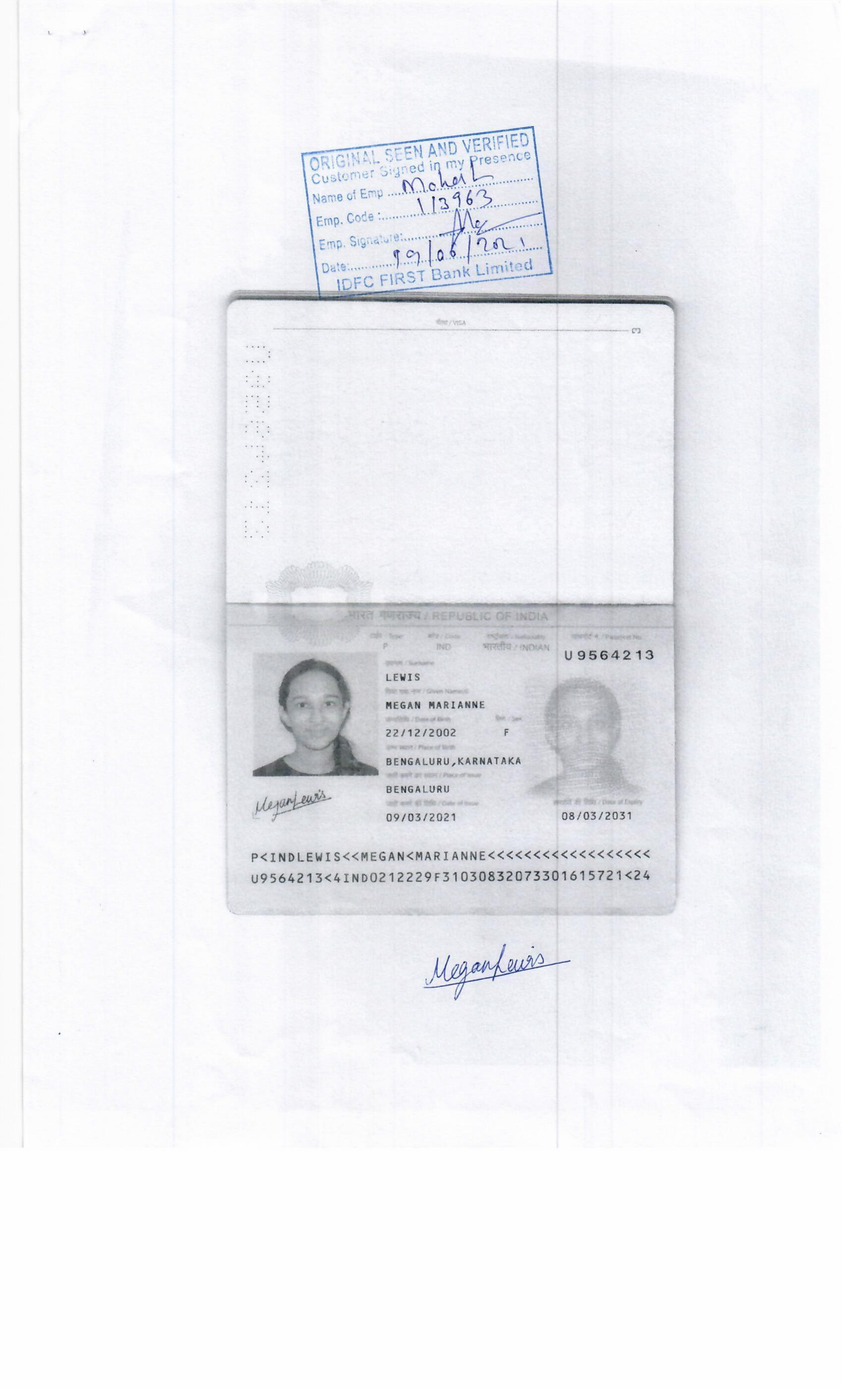DOB: (374, 722, 462, 747)
Surname: (379, 669, 433, 684)
country_code: (431, 642, 460, 654)
date_of_expiry: (549, 801, 648, 828)
date_of_issue: (380, 806, 463, 830)
details: (246, 846, 668, 893)
name: (383, 694, 501, 712)
nationality: (479, 637, 554, 658)
passport_no: (559, 643, 662, 673)
photo: (260, 657, 373, 772)
place_of_birth: (381, 752, 530, 770)
place_of_issue: (379, 780, 470, 801)
sex: (500, 725, 519, 740)
sign: (252, 788, 341, 828)
type: (375, 638, 401, 654)
